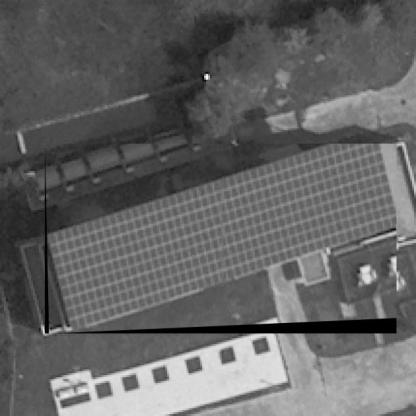solar-pv-panel: (46, 144, 396, 333)
